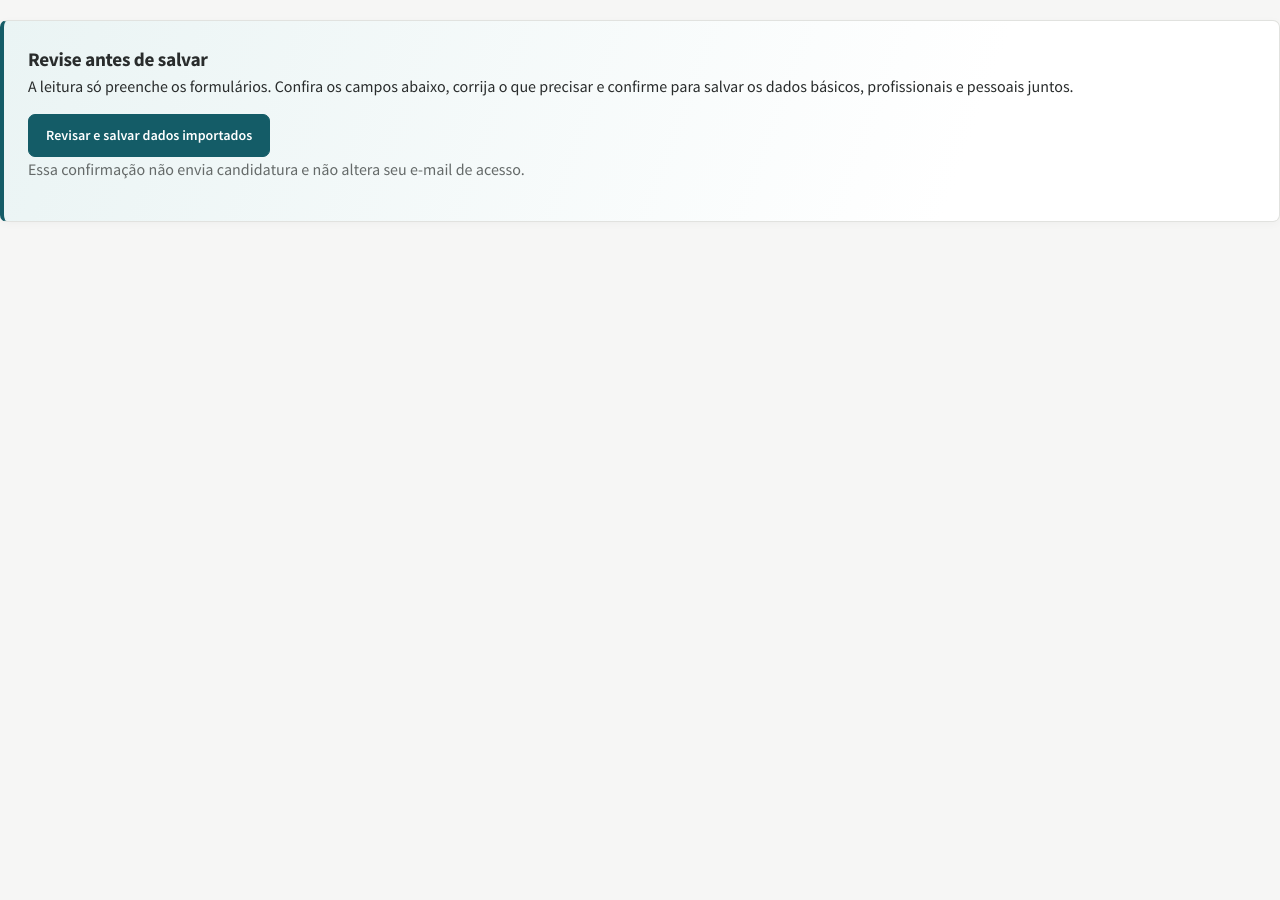
Scenario: does not persist until the candidate explicitly reviews and confirms
Later steps or results of the test are not shown.
What coordinates should you click on to do the following:
click the button "Revisar e salvar dados importados"
I would click on:
 (149, 135)
Its box is [28,114,270,157].
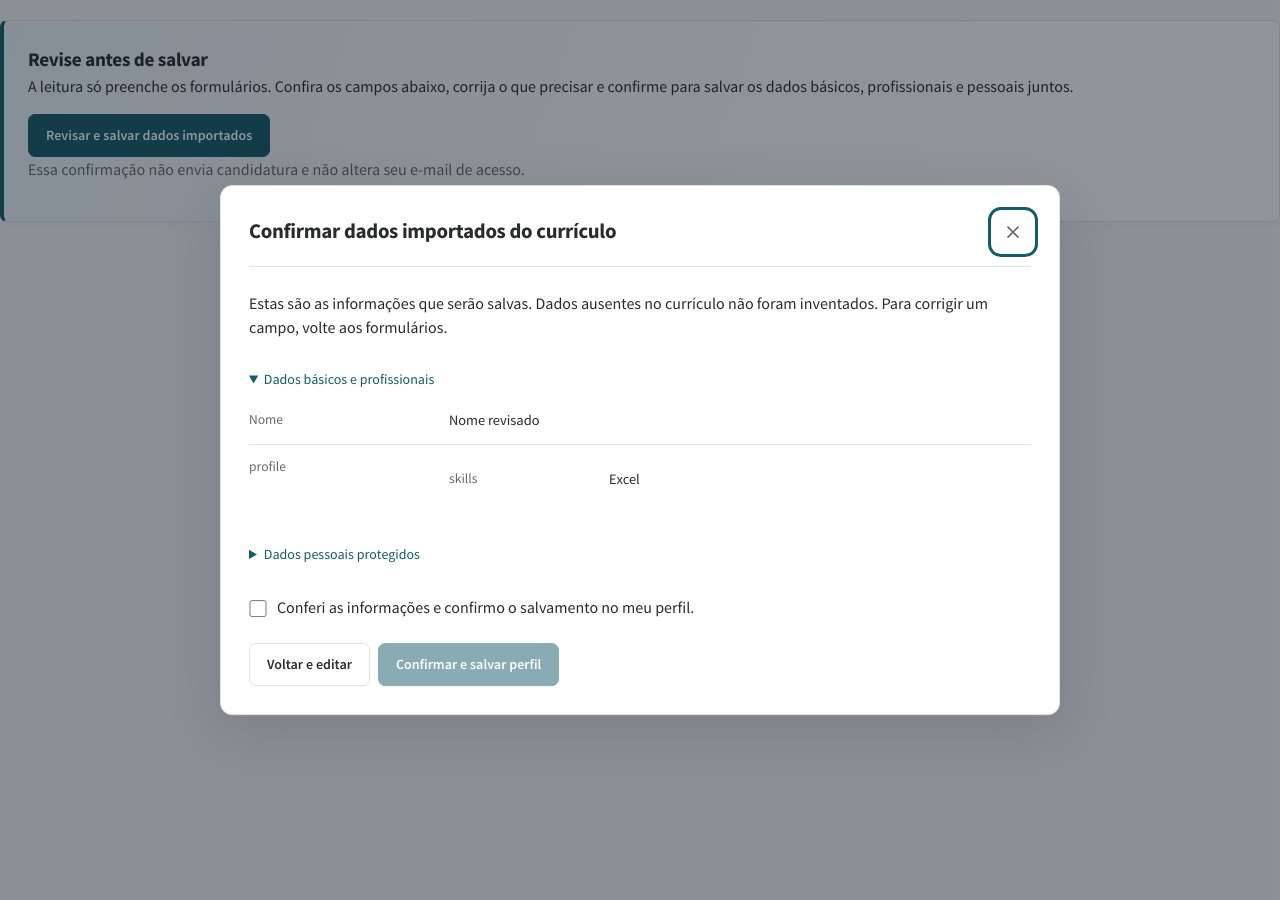
Result: the button "Confirmar e salvar perfil" is disabled at [378,643,559,686]
